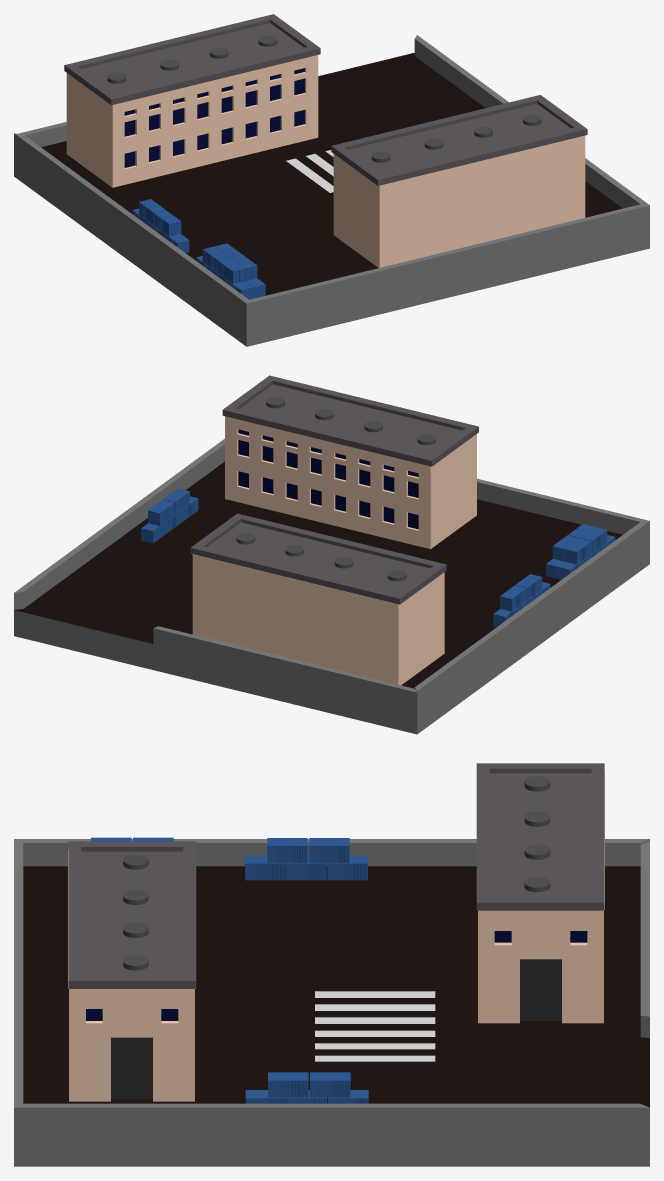
3 renders of one model, top to bottom at view 1: azimuth 30°, elevation 25°; view 2: azimuth 150°, elevation 25°; view 3: azimuth 270°, elevation 25°, orthographic. The views are drawn at different scales.
Visible parts, largest first — view 1: Cube.002, Building, Building.002, Roof1, Roof1.002, Cube.010, Cube.020; view 2: Cube.002, Building.002, Building, Roof1, Roof1.002, Cube.007, Cube.011, Cube.021; view 3: Cube.002, Roof1.002, Roof1, Building, Building.002, Cube.006, Cube.007, Cube.010, Cube.011, Cube.009, Cube.001, Cube.008.
Boxes of the visible parts, x1,y1,x2,y2 form: Cube.002: [14, 35, 649, 346]; Building: [66, 55, 318, 187]; Building.002: [333, 135, 585, 267]; Roof1: [64, 14, 320, 105]; Roof1.002: [331, 95, 587, 185]; Cube.010: [154, 210, 181, 236]; Cube.020: [218, 257, 244, 283]; Cube.002: [14, 439, 649, 734]; Building.002: [225, 416, 476, 549]; Building: [192, 554, 444, 685]; Roof1: [190, 513, 446, 604]; Roof1.002: [222, 375, 478, 466]; Cube.007: [148, 499, 174, 525]; Cube.011: [500, 585, 526, 611]; Cube.021: [565, 538, 591, 564]; Cube.002: [14, 839, 649, 1166]; Roof1.002: [68, 841, 196, 988]; Roof1: [476, 763, 604, 910]; Building: [478, 771, 604, 1023]; Building.002: [68, 849, 194, 1101]; Cube.006: [268, 1072, 308, 1097]; Cube.007: [310, 1072, 350, 1097]; Cube.010: [267, 838, 307, 863]; Cube.011: [309, 838, 349, 863]; Cube.009: [245, 855, 285, 880]; Cube.001: [327, 855, 367, 880]; Cube.008: [286, 855, 326, 880].
Size of the model in its own units: 13.09 by 3.58 by 13.09.
